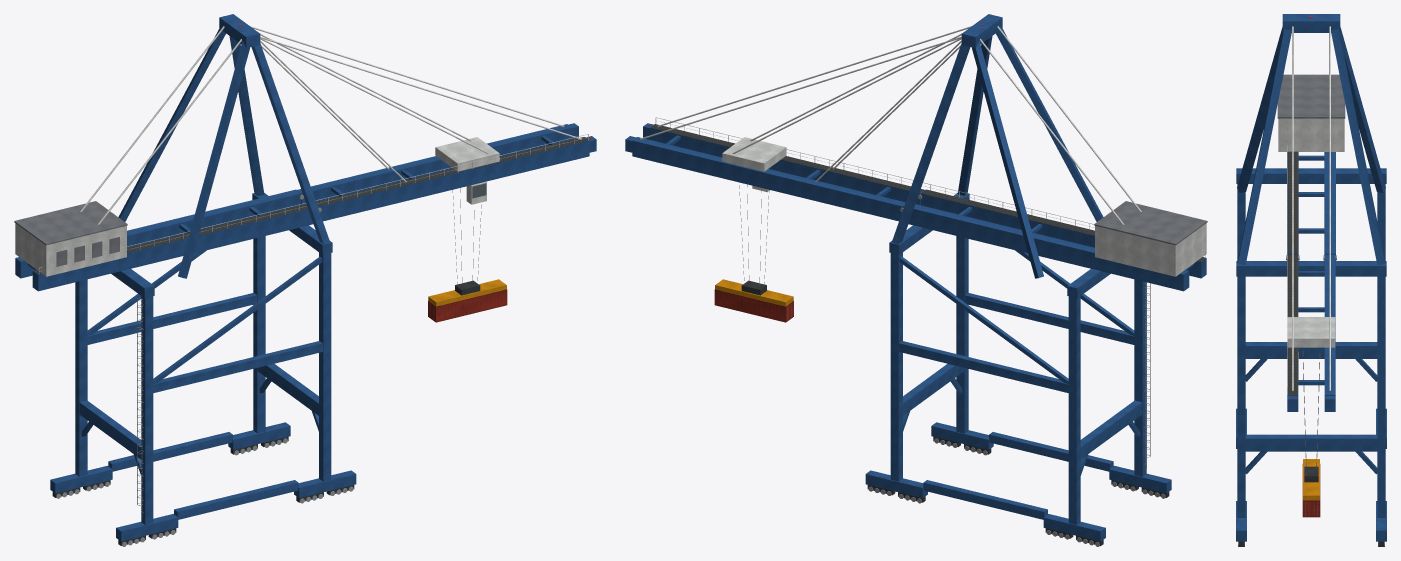
Rendered from container-gantry-crane.glb.
3 renders of one model, left to right at view 1: azimuth 30°, elevation 25°; view 2: azimuth 150°, elevation 25°; view 3: azimuth 270°, elevation 25°, orthographic. The views are drawn at different scales.
Visible parts, largest first — view 1: Legs, Girders and boom, A-frame, Sill beams, Machinery house, Stays, Walkways, Trolley, Container, Spreader, Railings, Wheels (+2 smaller); view 2: Legs, Girders and boom, A-frame, Sill beams, Machinery house, Stays, Walkways, Trolley, Container, Spreader, Railings, Wheels (+2 smaller); view 3: Legs, A-frame, Machinery house, Girders and boom, Walkways, Stays, Trolley, Sill beams, Spreader, Container, Railings, Ropes.
Boxes of the visible parts, left/top/right/bottom form: Legs: left=75, top=193, right=332, bottom=524; Girders and boom: left=15, top=123, right=596, bottom=291; A-frame: left=118, top=14, right=329, bottom=278; Sill beams: left=50, top=422, right=356, bottom=541; Machinery house: left=14, top=201, right=127, bottom=276; Stays: left=80, top=26, right=581, bottom=224; Walkways: left=33, top=137, right=588, bottom=274; Trolley: left=435, top=137, right=499, bottom=171; Container: left=428, top=289, right=507, bottom=322; Spreader: left=428, top=279, right=506, bottom=306; Railings: left=39, top=134, right=588, bottom=273; Wheels: left=56, top=438, right=353, bottom=546; Legs: left=889, top=193, right=1146, bottom=524; Girders and boom: left=625, top=123, right=1206, bottom=291; A-frame: left=892, top=14, right=1103, bottom=278; Sill beams: left=865, top=422, right=1171, bottom=541; Machinery house: left=1094, top=201, right=1207, bottom=276; Stays: left=640, top=26, right=1141, bottom=224; Walkways: left=650, top=124, right=1205, bottom=261; Trolley: left=722, top=137, right=786, bottom=171; Container: left=714, top=289, right=793, bottom=322; Spreader: left=715, top=279, right=793, bottom=306; Railings: left=655, top=117, right=1205, bottom=257; Wheels: left=868, top=438, right=1165, bottom=546; Legs: left=1236, top=168, right=1386, bottom=517; A-frame: left=1237, top=14, right=1385, bottom=264; Machinery house: left=1277, top=74, right=1345, bottom=151; Girders and boom: left=1286, top=152, right=1336, bottom=411; Walkways: left=1287, top=151, right=1298, bottom=394; Stays: left=1292, top=26, right=1330, bottom=391; Trolley: left=1287, top=317, right=1335, bottom=347; Sill beams: left=1236, top=408, right=1386, bottom=541; Spreader: left=1302, top=459, right=1320, bottom=500; Container: left=1302, top=466, right=1320, bottom=517; Railings: left=1287, top=145, right=1287, bottom=393; Ropes: left=1302, top=351, right=1320, bottom=475.
Bounding box in the file's own units: 95.7 × 75.4 × 21.
Materials: 15 (15 with a texture image).
